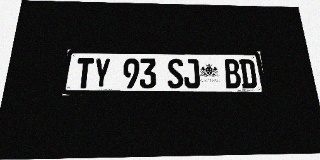3: (140, 58, 156, 89)
9: (122, 58, 140, 89)
B: (223, 59, 242, 89)
D: (239, 59, 258, 89)
J: (183, 59, 200, 89)
S: (167, 59, 184, 89)
T: (75, 58, 94, 89)
Y: (92, 58, 111, 89)
